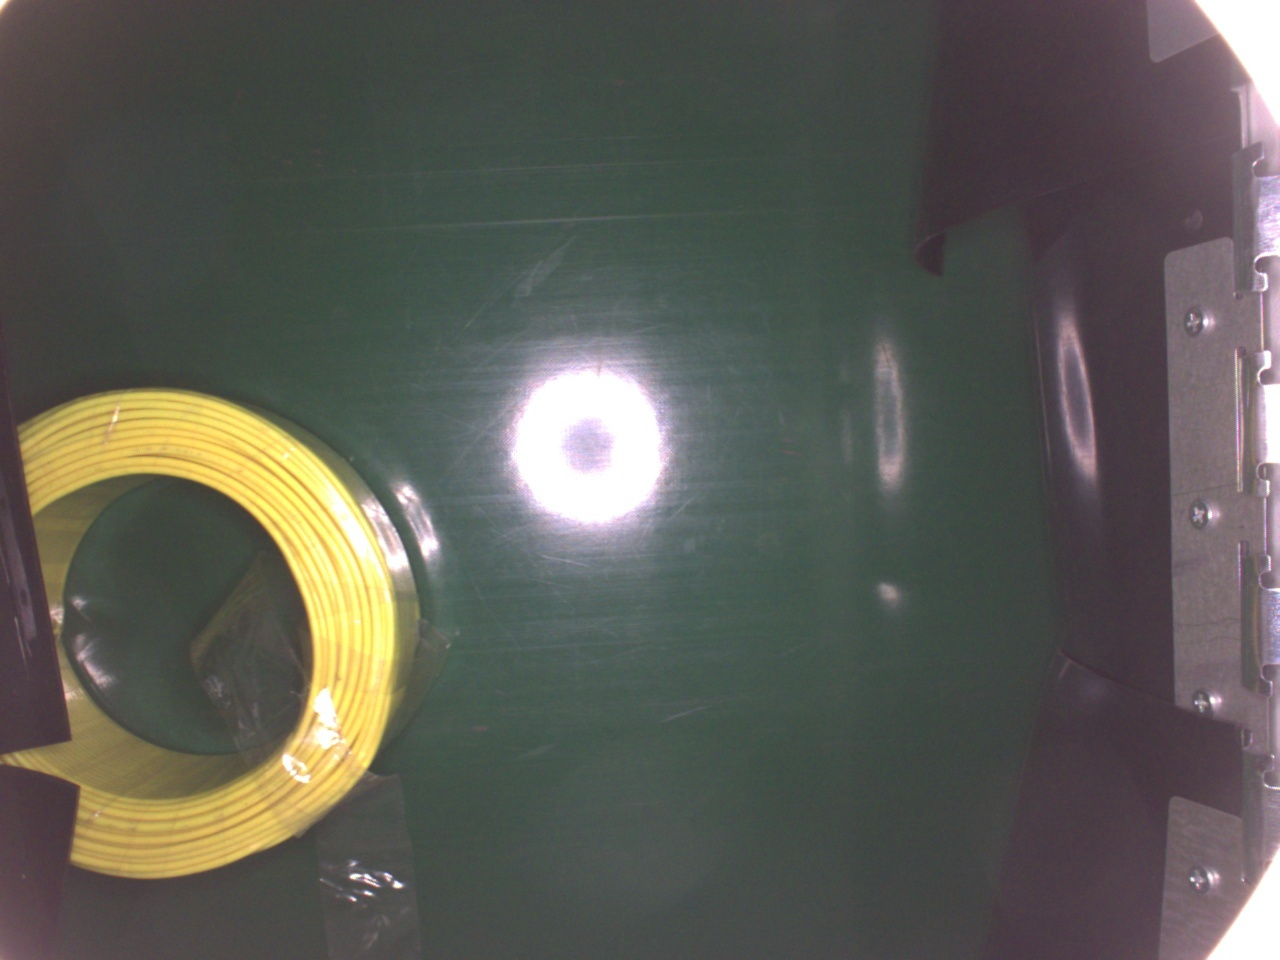yellow: (9, 381, 422, 878)
